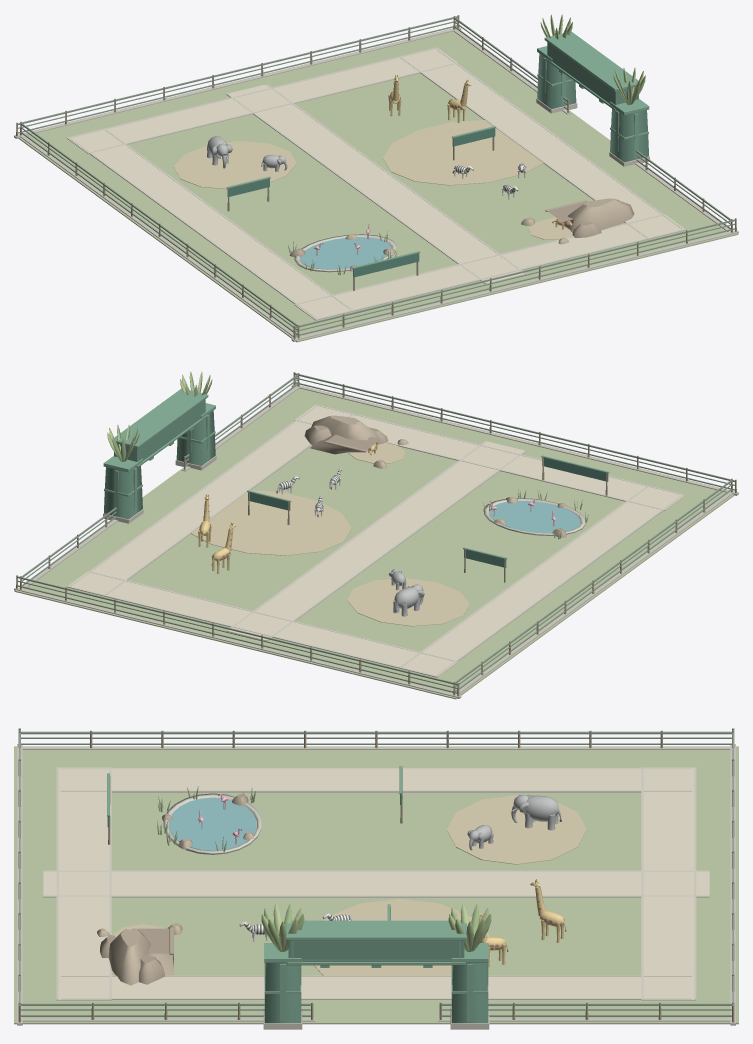
Rendered from LM_ENV_Zoo.glb.
3 views of the same model, one above another, from view 1: azimuth 30°, elevation 25°; view 2: azimuth 150°, elevation 25°; view 3: azimuth 270°, elevation 25° (orthographic). The views are drawn at different scales.
Visible parts, largest first — view 1: Zoo | Zoo grass, Zoo | Zoo path, Zoo | Zoo scrub, Zoo | Zoo rail timber, Zoo | Zoo kerb, Zoo | Zoo stone, Zoo | Zoo gate trim, Zoo | Zoo gate green, Zoo | Zoo water, Zoo | Zoo rock, Zoo | Zoo rail post, Zoo | Zoo sign board (+3 smaller); view 2: Zoo | Zoo grass, Zoo | Zoo path, Zoo | Zoo scrub, Zoo | Zoo rail timber, Zoo | Zoo kerb, Zoo | Zoo stone, Zoo | Zoo gate trim, Zoo | Zoo gate green, Zoo | Zoo water, Zoo | Zoo rail post, Zoo | Zoo rock, Zoo | Zoo rock shade (+3 smaller); view 3: Zoo | Zoo grass, Zoo | Zoo path, Zoo | Zoo kerb, Zoo | Zoo rail timber, Zoo | Zoo scrub, Zoo | Zoo stone, Zoo | Zoo gate trim, Zoo | Zoo gate green, Zoo | Zoo water, Zoo | Zoo rock, Zoo | Zoo rock shade, Zoo | Zoo rail post (+4 smaller).
Boxes of the visible parts, left/top/right/bottom form: Zoo | Zoo grass: left=15, top=28, right=738, bottom=342; Zoo | Zoo path: left=67, top=48, right=684, bottom=319; Zoo | Zoo scrub: left=174, top=120, right=572, bottom=239; Zoo | Zoo rail timber: left=18, top=16, right=735, bottom=336; Zoo | Zoo kerb: left=67, top=47, right=685, bottom=320; Zoo | Zoo stone: left=14, top=27, right=738, bottom=341; Zoo | Zoo gate trim: left=226, top=31, right=649, bottom=269; Zoo | Zoo gate green: left=537, top=42, right=648, bottom=162; Zoo | Zoo water: left=300, top=237, right=391, bottom=269; Zoo | Zoo rock: left=345, top=198, right=634, bottom=255; Zoo | Zoo rail post: left=16, top=15, right=736, bottom=339; Zoo | Zoo sign board: left=227, top=128, right=495, bottom=277; Zoo | Zoo grass: left=14, top=385, right=737, bottom=699; Zoo | Zoo path: left=68, top=405, right=685, bottom=676; Zoo | Zoo scrub: left=191, top=442, right=469, bottom=626; Zoo | Zoo rail timber: left=17, top=373, right=734, bottom=693; Zoo | Zoo kerb: left=67, top=404, right=685, bottom=677; Zoo | Zoo stone: left=14, top=384, right=738, bottom=698; Zoo | Zoo gate trim: left=103, top=388, right=609, bottom=559; Zoo | Zoo gate green: left=104, top=399, right=215, bottom=519; Zoo | Zoo water: left=489, top=500, right=580, bottom=533; Zoo | Zoo rail post: left=16, top=372, right=736, bottom=696; Zoo | Zoo rock: left=311, top=415, right=517, bottom=524; Zoo | Zoo rock shade: left=304, top=425, right=567, bottom=537; Zoo | Zoo grass: left=14, top=746, right=738, bottom=1024; Zoo | Zoo path: left=43, top=767, right=709, bottom=1000; Zoo | Zoo kerb: left=43, top=767, right=709, bottom=1000; Zoo | Zoo rail timber: left=19, top=730, right=733, bottom=1016; Zoo | Zoo scrub: left=112, top=795, right=586, bottom=975; Zoo | Zoo stone: left=17, top=744, right=735, bottom=1029; Zoo | Zoo gate trim: left=107, top=766, right=488, bottom=1021; Zoo | Zoo gate green: left=264, top=940, right=488, bottom=1023; Zoo | Zoo water: left=169, top=797, right=256, bottom=851; Zoo | Zoo rock: left=97, top=831, right=253, bottom=985; Zoo | Zoo rock shade: left=100, top=793, right=248, bottom=984; Zoo | Zoo rail post: left=18, top=728, right=734, bottom=1022.
Size of the model in its own units: 57.55 by 10.31 by 62.
